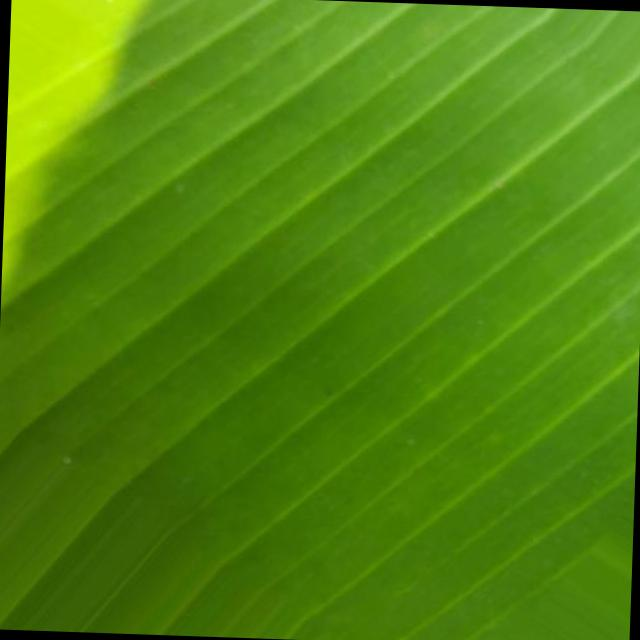Banana_Healthy: (69, 36, 640, 640)
